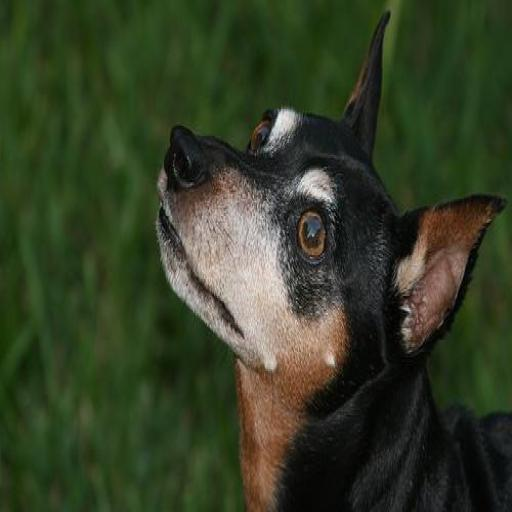dog_face: (158, 12, 498, 417)
